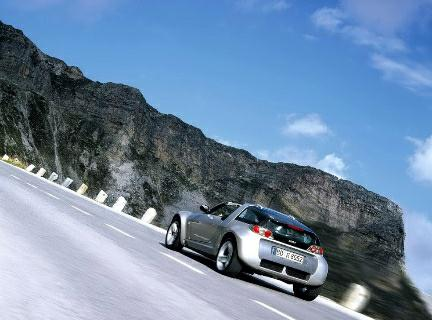smart-roadster: (171, 199, 333, 301)
